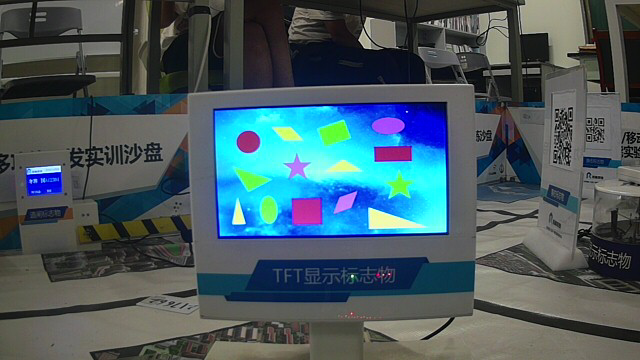graph: (209, 99, 455, 240)
